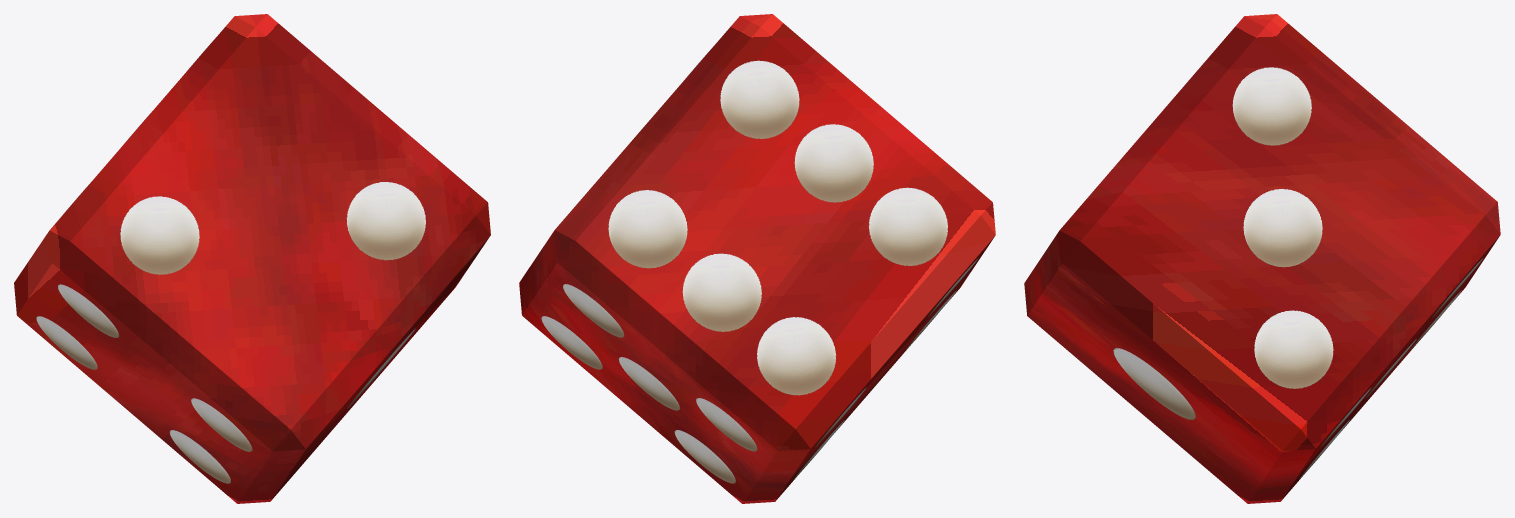
File: diagonal_dice_red.obj
The picture shows the model from 3 angles, left to right: view 1: azimuth 30°, elevation 25°; view 2: azimuth 150°, elevation 25°; view 3: azimuth 270°, elevation 25°; orthographic projection.
Parts seen in each view (by area): view 1: Object_1, obj1; view 2: Object_1, obj1; view 3: Object_1, obj1.
Boxes of the visible parts, <box> form: Object_1: <box>14,14,490,503</box>; obj1: <box>36,40,425,483</box>; Object_1: <box>519,14,995,503</box>; obj1: <box>541,49,978,483</box>; Object_1: <box>1024,14,1500,503</box>; obj1: <box>1113,67,1482,479</box>.
Size of the model in its own units: 751 by 785 by 707.
